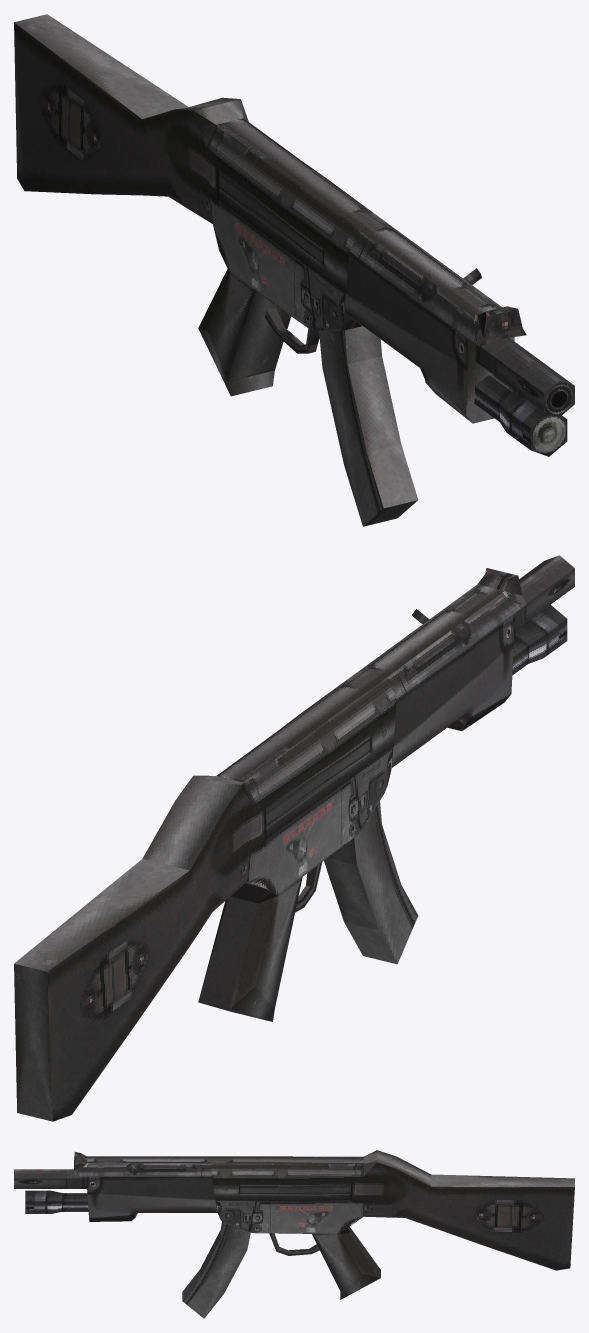
Rendered from MP5Navy.glb.
3 views of the same model, one above another, from view 1: azimuth 30°, elevation 25°; view 2: azimuth 150°, elevation 25°; view 3: azimuth 270°, elevation 25° (orthographic). The views are drawn at different scales.
Visible parts, largest first — view 1: MP5_Body, MP5_Mag; view 2: MP5_Body, MP5_Mag; view 3: MP5_Body, MP5_Mag.
Part boxes in pixels (left/top/right/bottom): MP5_Body: left=14, top=14, right=574, bottom=456; MP5_Mag: left=319, top=326, right=418, bottom=526; MP5_Body: left=14, top=555, right=574, bottom=1121; MP5_Mag: left=324, top=801, right=418, bottom=964; MP5_Body: left=14, top=1150, right=574, bottom=1299; MP5_Mag: left=182, top=1222, right=250, bottom=1318.
Size of the model in its own units: 0.3069 by 1.51 by 4.83.
1 material, 1 textured.
